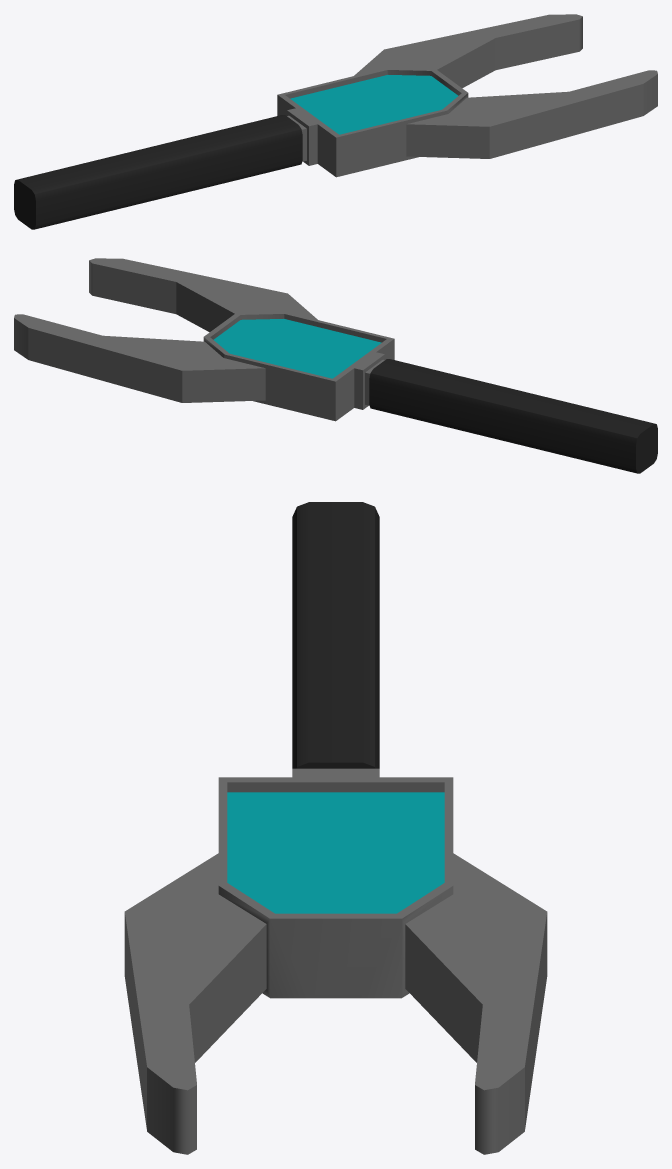
Rendered from SM_ScannerFBX.fbx.
The picture shows the model from 3 angles, top to bottom: view 1: azimuth 30°, elevation 25°; view 2: azimuth 150°, elevation 25°; view 3: azimuth 270°, elevation 25°; orthographic projection. The views are drawn at different scales.
Visible parts, largest first — view 1: pCube3; view 2: pCube3; view 3: pCube3.
Part boxes in pixels (<box>): pCube3: <box>14,14,657,229</box>; pCube3: <box>14,258,657,473</box>; pCube3: <box>124,502,547,1154</box>.
Bounding box in the file's own units: 15.68 × 1 × 4.82.
